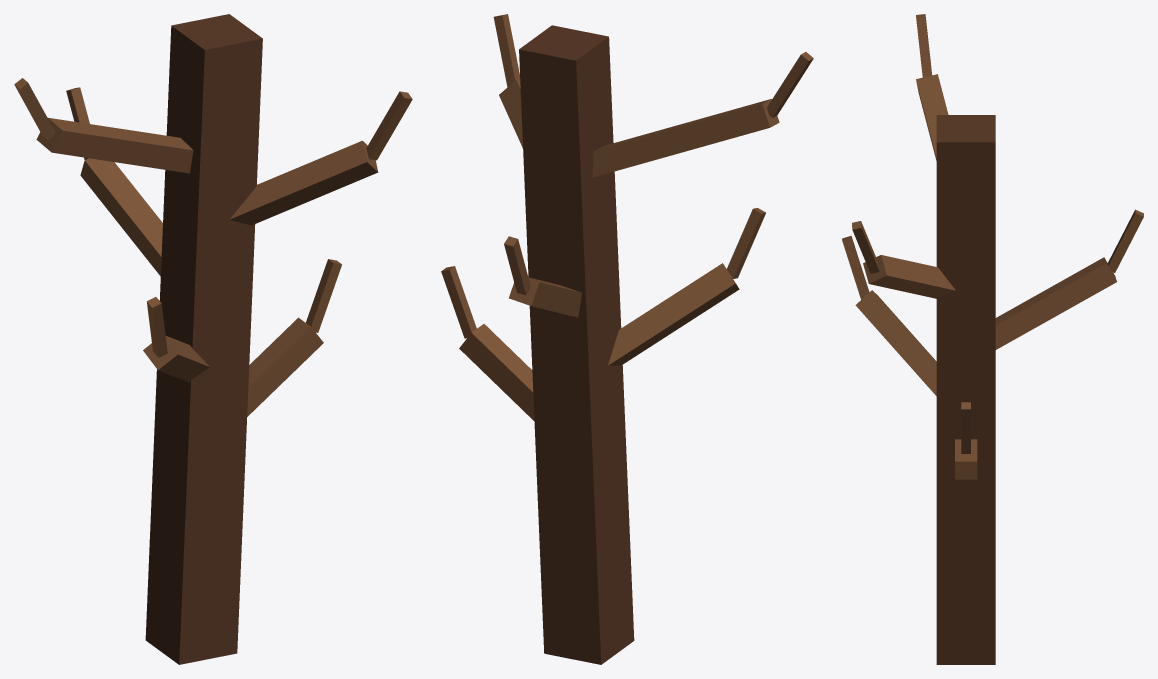
File: DeadTree__Bare.fbx
3 views of the same model, side by side, from view 1: azimuth 30°, elevation 25°; view 2: azimuth 150°, elevation 25°; view 3: azimuth 270°, elevation 25° (orthographic). The views are drawn at different scales.
Parts seen in each view (by area): view 1: DeadTree__Bare; view 2: DeadTree__Bare; view 3: DeadTree__Bare.
Boxes of the visible parts, x1=… form: DeadTree__Bare: x1=14, y1=14, x2=412, y2=664; DeadTree__Bare: x1=441, y1=14, x2=813, y2=664; DeadTree__Bare: x1=842, y1=14, x2=1143, y2=664.
Size of the model in its own units: 209 by 354 by 174.
1 material, 1 textured.
